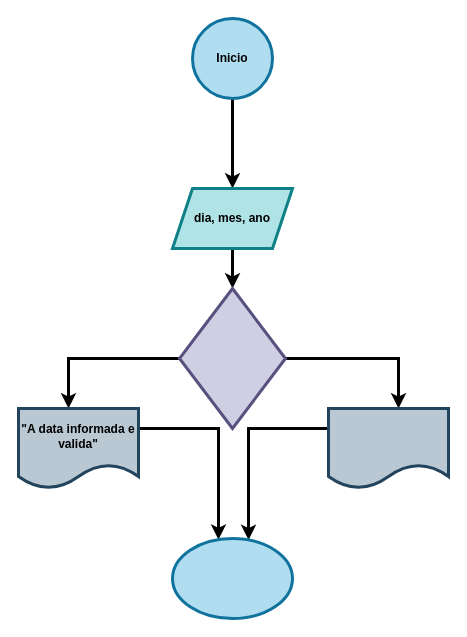
This 467x637 diagram has some shape labels left out. Each missing label, with the box of its shape:
dia>=29 ou dia<=31 ou mes>=1 ou mes<=12: (178, 286, 286, 430)
Fim: (170, 536, 294, 620)
